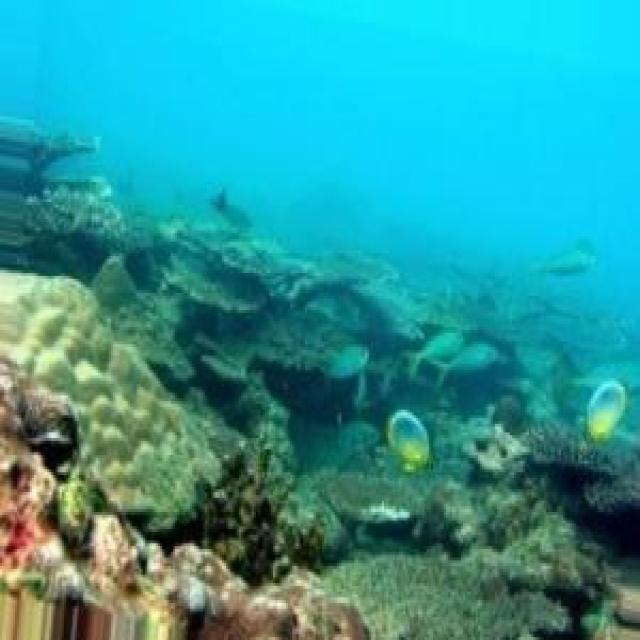bleached coral: (0, 273, 213, 543), (85, 518, 286, 640), (329, 492, 420, 526), (465, 427, 529, 475), (350, 594, 416, 640), (610, 572, 640, 640)
healthy coral: (171, 230, 425, 358), (4, 117, 160, 282), (491, 324, 629, 438), (230, 373, 301, 515), (384, 338, 465, 415)
